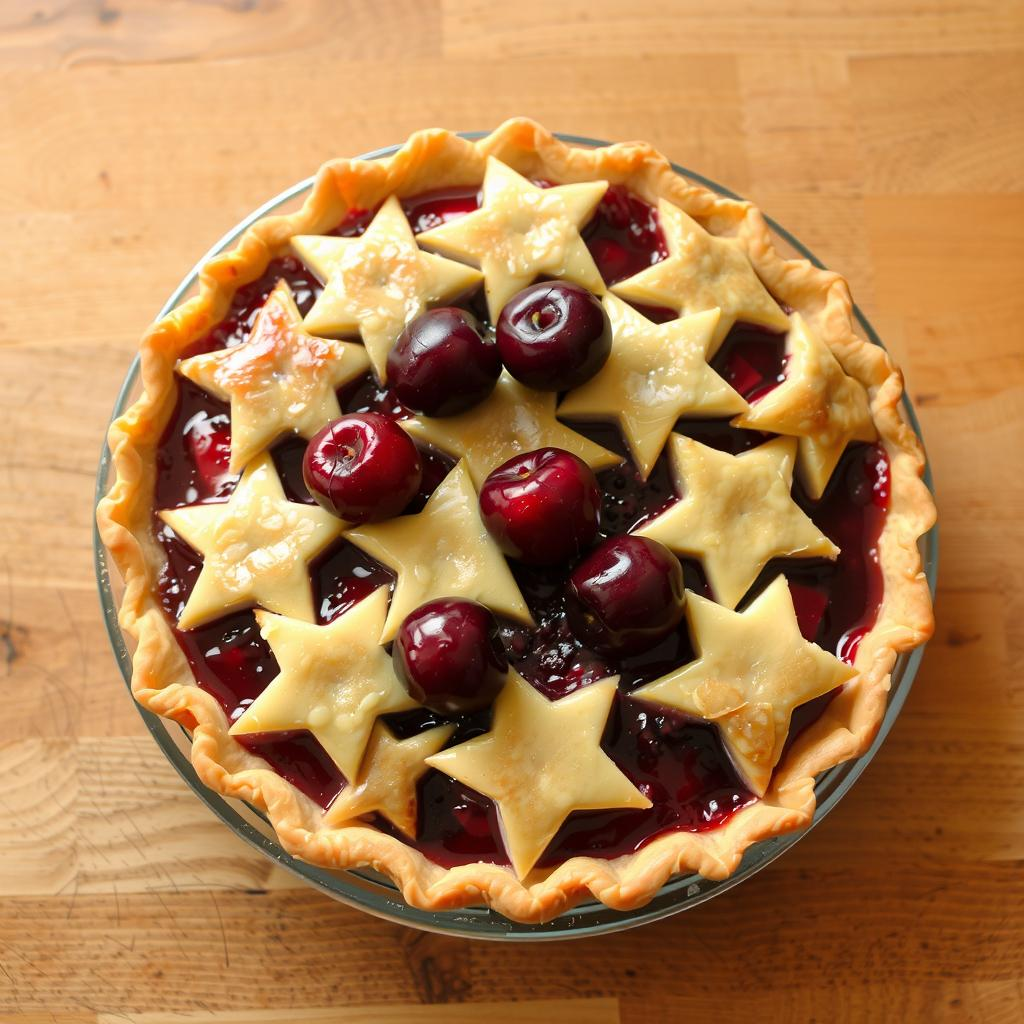pie: (96, 110, 947, 929)
